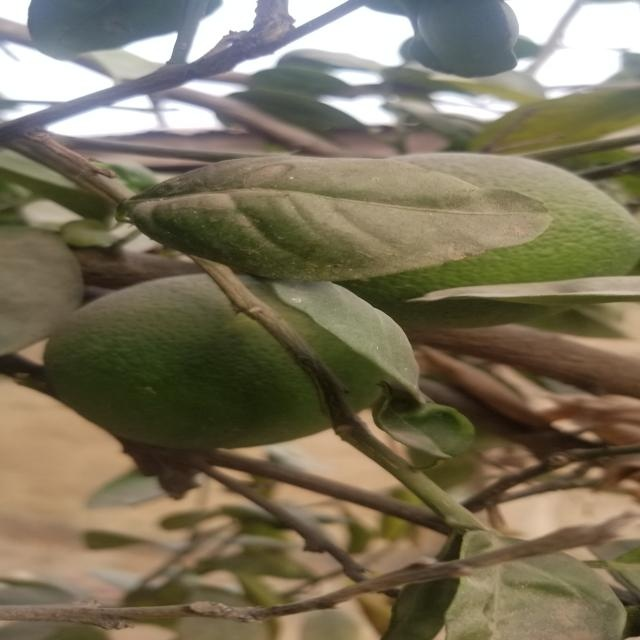agrume: (46, 270, 405, 449), (346, 155, 637, 324)
